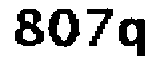0: (46, 4, 83, 52)
7: (84, 5, 115, 51)
8: (11, 4, 46, 51)
q: (115, 17, 152, 57)
